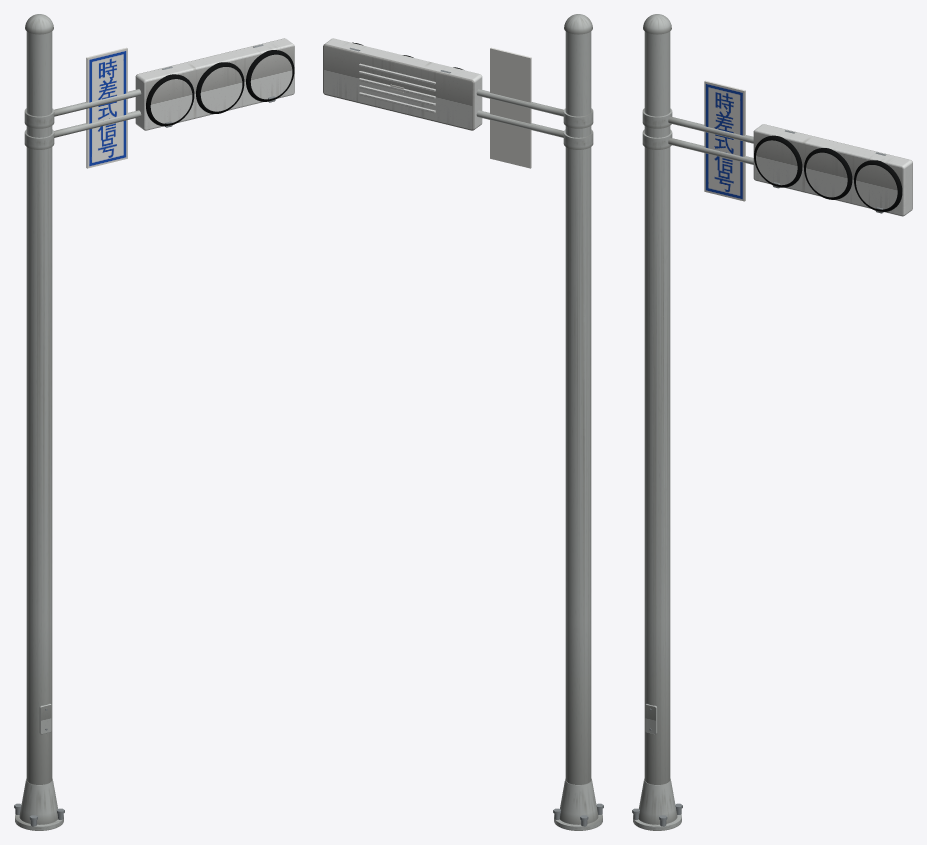
3 renders of one model, left to right at view 1: azimuth 30°, elevation 25°; view 2: azimuth 150°, elevation 25°; view 3: azimuth 330°, elevation 25°, orthographic.
Visible parts, largest first — view 1: jp-veh-hoodless, opt_sign_on; view 2: jp-veh-hoodless, opt_sign_on; view 3: jp-veh-hoodless, opt_sign_on.
Boxes of the visible parts, bbox=[...] form: jp-veh-hoodless: bbox=[14, 14, 294, 830]; opt_sign_on: bbox=[86, 47, 127, 168]; jp-veh-hoodless: bbox=[323, 14, 603, 830]; opt_sign_on: bbox=[490, 47, 531, 168]; jp-veh-hoodless: bbox=[632, 14, 912, 830]; opt_sign_on: bbox=[704, 80, 745, 201].
Bounding box in the file's own units: 2.02 × 5.69 × 0.3139.
13 materials, 3 textured.
